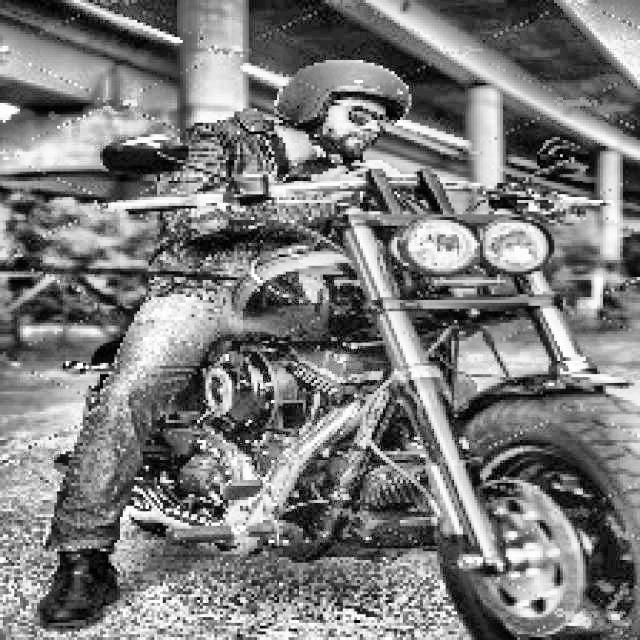motorcycle: (37, 120, 638, 640)
